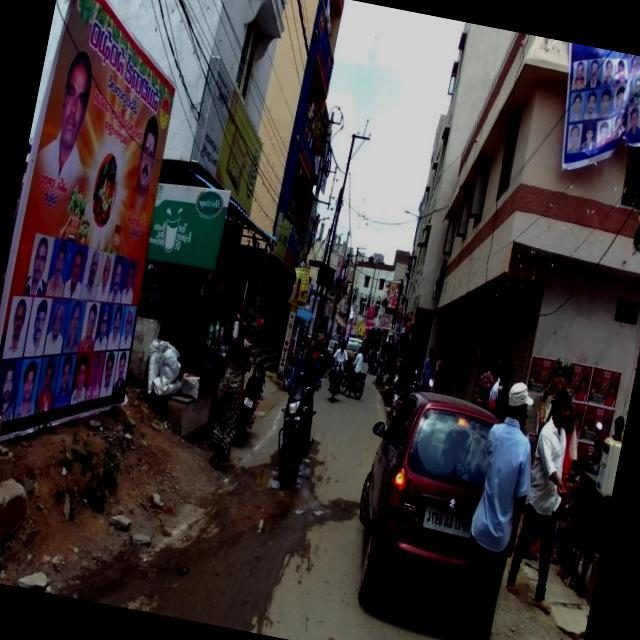Drain Hole: (547, 573, 595, 640)
pothole: (229, 438, 324, 540)
